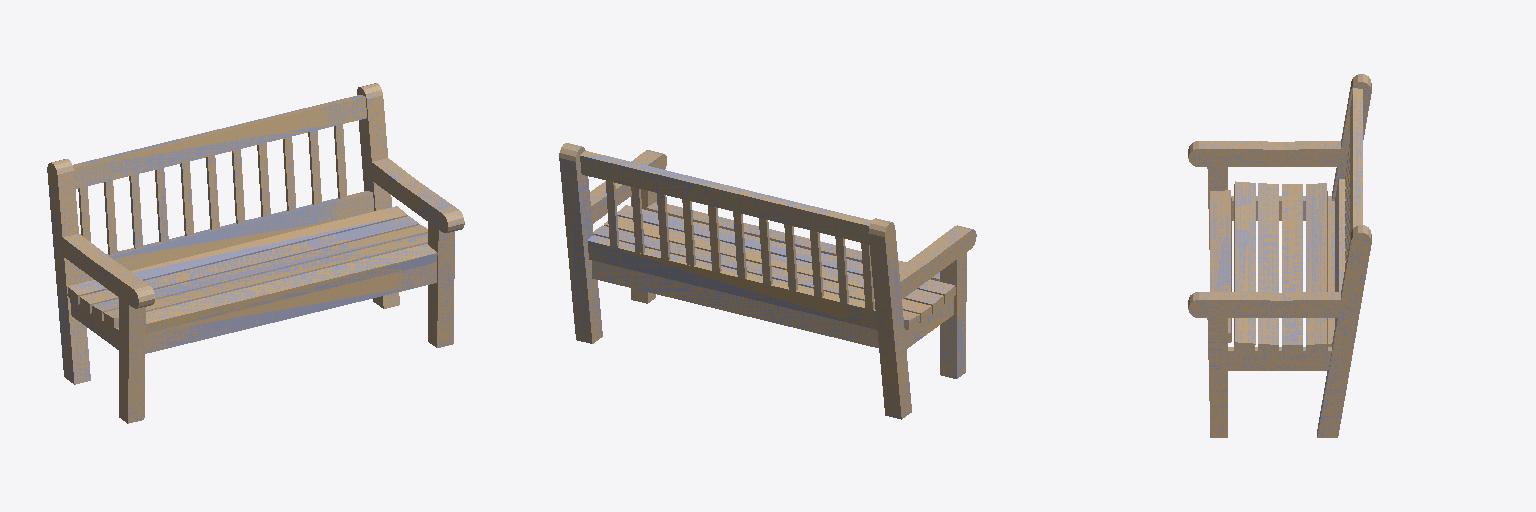
3 renders of one model, left to right at view 1: azimuth 30°, elevation 25°; view 2: azimuth 150°, elevation 25°; view 3: azimuth 270°, elevation 25°, orthographic.
Visible parts, largest first — view 1: Mesh13 board_3_2 InnerParts Model, Mesh19 board_3_5 InnerParts Model, Mesh15 board_3_3 InnerParts Model, Mesh49 arm2 LeftArmRest Model, Mesh11 board_3_1 InnerParts Model, Mesh43 arm1 RightArmRest Model, Mesh47 board_2_2 LeftArmRest Model, Mesh1 board Seat Model, Mesh3 board1 Seat Model, Mesh5 board2 Seat Model, Mesh7 board3 Seat Model, Mesh41 board_2_1 RightArmRest Model (+11 smaller); view 2: Mesh13 board_3_2 InnerParts Model, Mesh11 board_3_1 InnerParts Model, Mesh47 board_2_2 LeftArmRest Model, Mesh17 board_3_4 InnerParts Model, Mesh41 board_2_1 RightArmRest Model, Mesh49 arm2 LeftArmRest Model, Mesh7 board3 Seat Model, Mesh5 board2 Seat Model, Mesh3 board1 Seat Model, Mesh43 arm1 RightArmRest Model, Mesh19 board_3_5 InnerParts Model, Mesh51 board_6_2 LeftArmRest Model (+11 smaller); view 3: Mesh43 arm1 RightArmRest Model, Mesh41 board_2_1 RightArmRest Model, Mesh49 arm2 LeftArmRest Model, Mesh1 board Seat Model, Mesh5 board2 Seat Model, Mesh3 board1 Seat Model, Mesh7 board3 Seat Model, Mesh19 board_3_5 InnerParts Model, Mesh45 board_6_1 RightArmRest Model, Mesh13 board_3_2 InnerParts Model, Mesh47 board_2_2 LeftArmRest Model, Mesh11 board_3_1 InnerParts Model (+1 smaller).
Boxes of the visible parts, <box> form: Mesh13 board_3_2 InnerParts Model: <box>73,95,366,188</box>; Mesh19 board_3_5 InnerParts Model: <box>146,244,437,332</box>; Mesh15 board_3_3 InnerParts Model: <box>145,262,436,353</box>; Mesh49 arm2 LeftArmRest Model: <box>63,234,155,423</box>; Mesh11 board_3_1 InnerParts Model: <box>82,191,373,281</box>; Mesh43 arm1 RightArmRest Model: <box>372,158,464,347</box>; Mesh47 board_2_2 LeftArmRest Model: <box>47,159,90,384</box>; Mesh1 board Seat Model: <box>67,206,407,304</box>; Mesh3 board1 Seat Model: <box>80,216,419,313</box>; Mesh5 board2 Seat Model: <box>103,233,427,327</box>; Mesh7 board3 Seat Model: <box>92,225,427,320</box>; Mesh41 board_2_1 RightArmRest Model: <box>357,83,399,308</box>; Mesh13 board_3_2 InnerParts Model: <box>580,151,871,244</box>; Mesh11 board_3_1 InnerParts Model: <box>588,236,876,329</box>; Mesh47 board_2_2 LeftArmRest Model: <box>868,218,911,419</box>; Mesh17 board_3_4 InnerParts Model: <box>592,260,878,347</box>; Mesh41 board_2_1 RightArmRest Model: <box>559,143,602,343</box>; Mesh49 arm2 LeftArmRest Model: <box>899,225,976,378</box>; Mesh7 board3 Seat Model: <box>604,216,943,313</box>; Mesh5 board2 Seat Model: <box>617,205,955,303</box>; Mesh3 board1 Seat Model: <box>593,225,931,322</box>; Mesh43 arm1 RightArmRest Model: <box>590,150,666,303</box>; Mesh19 board_3_5 InnerParts Model: <box>646,202,939,281</box>; Mesh51 board_6_2 LeftArmRest Model: <box>905,297,953,349</box>; Mesh43 arm1 RightArmRest Model: <box>1188,292,1340,437</box>; Mesh41 board_2_1 RightArmRest Model: <box>1317,225,1371,437</box>; Mesh49 arm2 LeftArmRest Model: <box>1188,141,1340,249</box>; Mesh1 board Seat Model: <box>1306,183,1327,354</box>; Mesh5 board2 Seat Model: <box>1234,181,1255,352</box>; Mesh3 board1 Seat Model: <box>1282,184,1302,354</box>; Mesh7 board3 Seat Model: <box>1258,183,1278,354</box>; Mesh19 board_3_5 InnerParts Model: <box>1210,190,1231,342</box>; Mesh45 board_6_1 RightArmRest Model: <box>1228,347,1331,370</box>; Mesh13 board_3_2 InnerParts Model: <box>1350,88,1362,236</box>; Mesh47 board_2_2 LeftArmRest Model: <box>1332,74,1371,200</box>; Mesh11 board_3_1 InnerParts Model: <box>1335,179,1345,323</box>.
Bounding box in the file's own units: 64.5 × 38.4 × 31.1.